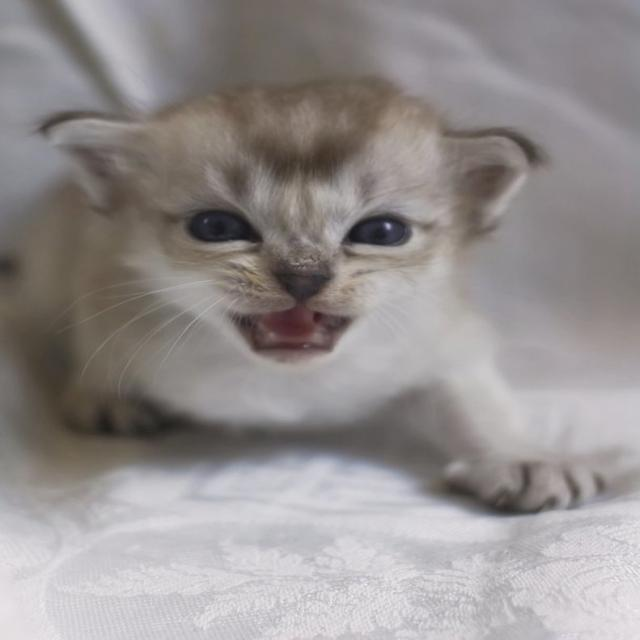Cat: (0, 74, 639, 515)
